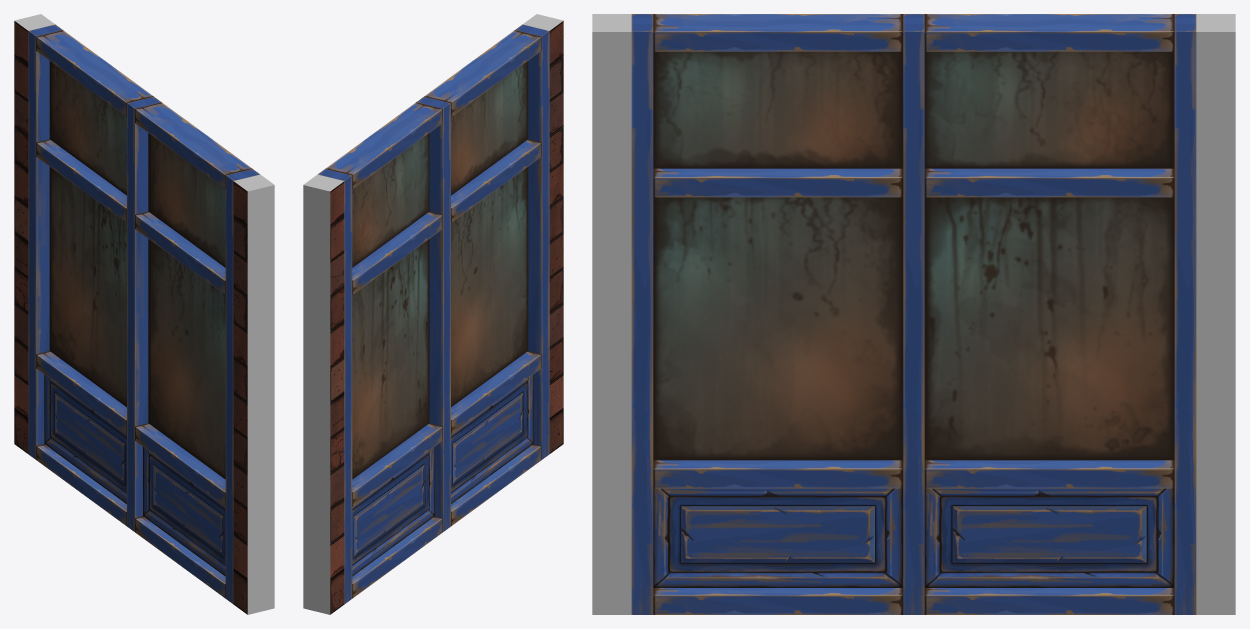
The model's file is storeFront01_window.FBX.
The picture shows the model from 3 angles, left to right: view 1: azimuth 30°, elevation 25°; view 2: azimuth 150°, elevation 25°; view 3: azimuth 270°, elevation 25°; orthographic projection. The views are drawn at different scales.
Parts seen in each view (by area): view 1: storeFront01_window, storeFront01_window_glass02, storeFront01_window_glass01, storeFront01_window_glass04, storeFront01_window_glass03; view 2: storeFront01_window, storeFront01_window_glass01, storeFront01_window_glass02, storeFront01_window_glass03, storeFront01_window_glass04; view 3: storeFront01_window, storeFront01_window_glass01, storeFront01_window_glass02, storeFront01_window_glass04, storeFront01_window_glass03.
Part boxes in pixels (box(x1,y1,x2,y2)): storeFront01_window: box(14, 14, 274, 614); storeFront01_window_glass02: box(148, 239, 225, 479); storeFront01_window_glass01: box(49, 167, 126, 407); storeFront01_window_glass04: box(148, 133, 225, 267); storeFront01_window_glass03: box(49, 61, 126, 195); storeFront01_window: box(303, 14, 563, 614); storeFront01_window_glass01: box(352, 239, 429, 479); storeFront01_window_glass02: box(451, 167, 528, 407); storeFront01_window_glass03: box(352, 133, 429, 267); storeFront01_window_glass04: box(451, 61, 528, 195); storeFront01_window: box(592, 14, 1235, 614); storeFront01_window_glass01: box(924, 197, 1174, 460); storeFront01_window_glass02: box(653, 197, 903, 460); storeFront01_window_glass04: box(653, 51, 903, 168); storeFront01_window_glass03: box(924, 51, 1174, 168).
Size of the model in its own units: 20 by 300 by 300.
